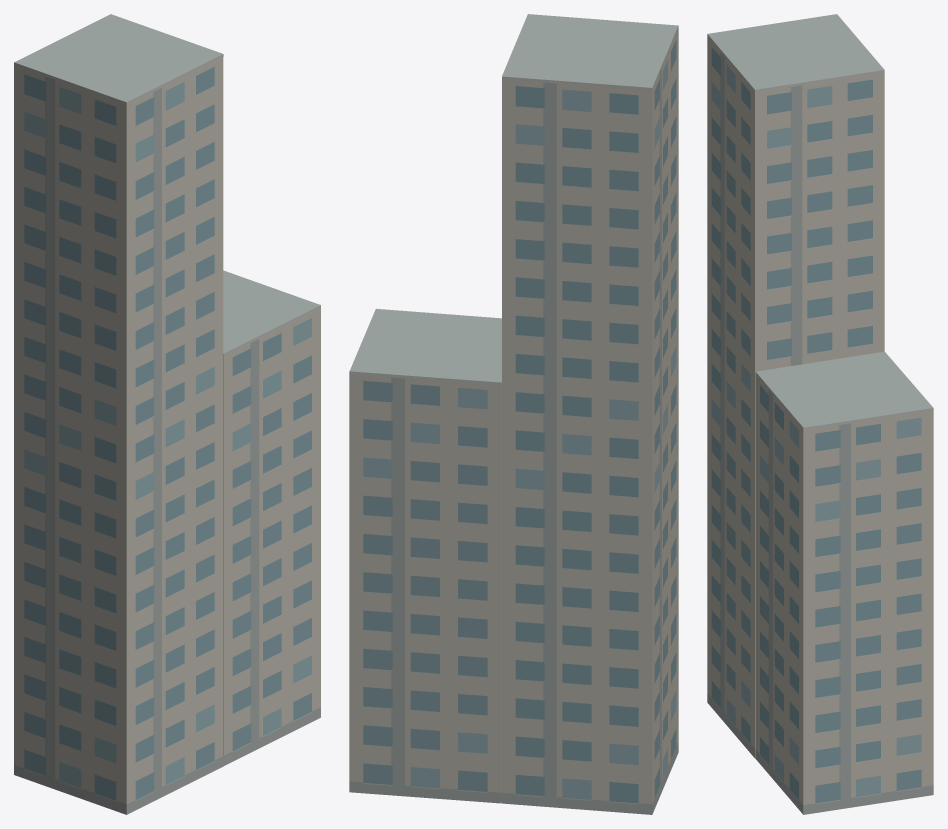
The model's file is residential-16dc1236-80fd-4b09-8f9a-f0b8177229fd.glb.
3 renders of one model, left to right at view 1: azimuth 30°, elevation 25°; view 2: azimuth 150°, elevation 25°; view 3: azimuth 270°, elevation 25°, orthographic. The views are drawn at different scales.
Parts seen in each view (by area): view 1: residential-16dc1236-80fd-4b09-8f9a-f0b8177229fd.tmp; view 2: residential-16dc1236-80fd-4b09-8f9a-f0b8177229fd.tmp; view 3: residential-16dc1236-80fd-4b09-8f9a-f0b8177229fd.tmp.
Boxes of the visible parts, x1,y1,x2,y2 form: residential-16dc1236-80fd-4b09-8f9a-f0b8177229fd.tmp: [14, 14, 320, 814]; residential-16dc1236-80fd-4b09-8f9a-f0b8177229fd.tmp: [349, 14, 678, 814]; residential-16dc1236-80fd-4b09-8f9a-f0b8177229fd.tmp: [707, 14, 933, 814].
Size of the model in its own units: 24.59 by 57.95 by 17.78.
